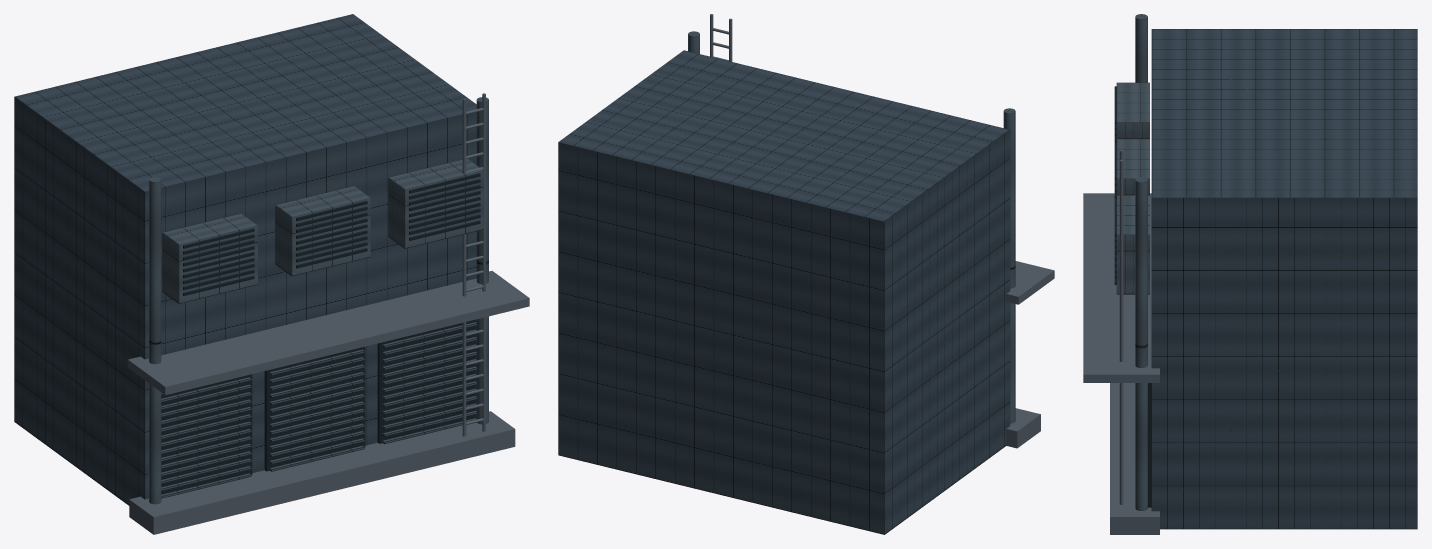
The model's file is street-workshop.glb.
3 renders of one model, left to right at view 1: azimuth 30°, elevation 25°; view 2: azimuth 150°, elevation 25°; view 3: azimuth 270°, elevation 25°, orthographic. The views are drawn at different scales.
Parts seen in each view (by area): view 1: street-workshop; view 2: street-workshop; view 3: street-workshop.
Boxes of the visible parts, x1,y1,x2,y2 form: street-workshop: [14, 14, 529, 534]; street-workshop: [558, 14, 1054, 534]; street-workshop: [1083, 14, 1417, 534].
Bounding box in the file's own units: 12.9 × 12 × 10.05.
5 materials, 2 textured.
